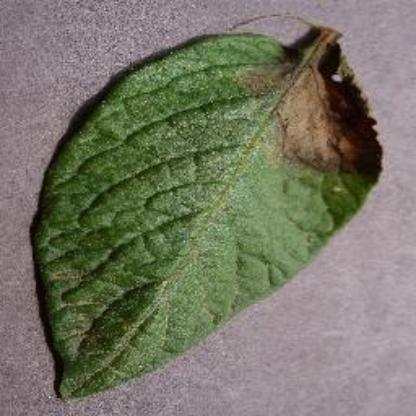Late-Blight: (15, 14, 403, 410)
